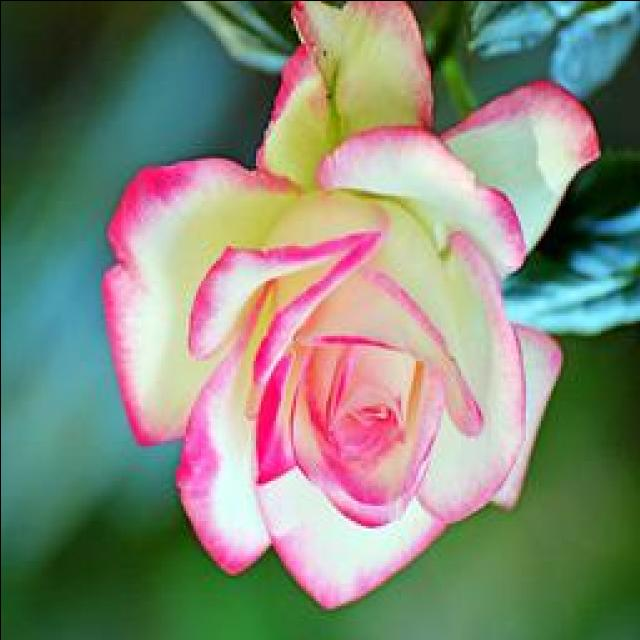rose: (90, 23, 578, 617)
